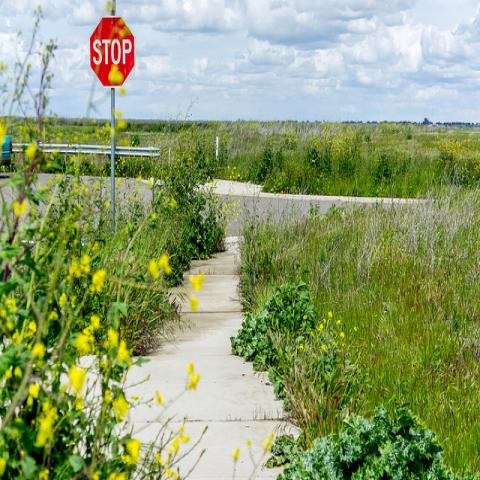car: (0, 136, 12, 165)
